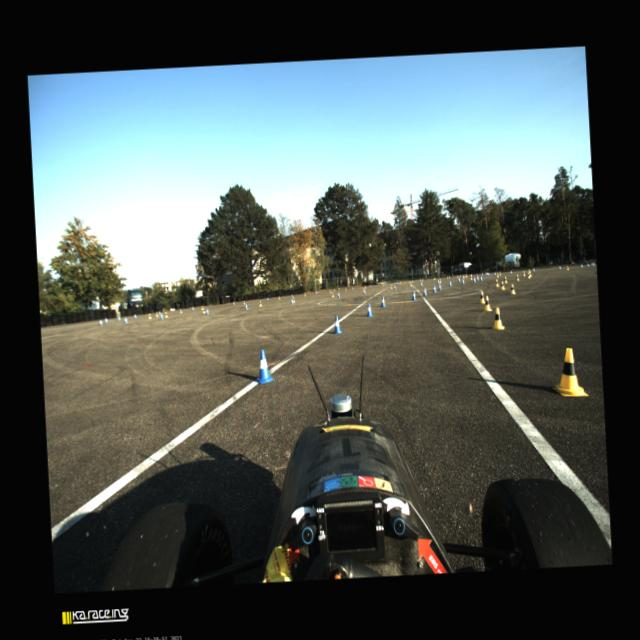blue_cone: (254, 349, 276, 385), (333, 315, 342, 334), (365, 303, 373, 317), (410, 290, 418, 300), (379, 296, 386, 307), (422, 288, 428, 296), (432, 285, 437, 293), (99, 318, 103, 326), (124, 316, 128, 324), (160, 313, 164, 320), (438, 284, 442, 290), (104, 317, 108, 323), (134, 313, 138, 319), (206, 308, 209, 316), (245, 303, 248, 311), (291, 298, 294, 305), (449, 281, 452, 287), (337, 292, 340, 298), (473, 277, 476, 283), (476, 275, 479, 281), (590, 262, 594, 266), (558, 266, 562, 270), (587, 263, 590, 268), (462, 278, 464, 285), (159, 310, 161, 316), (421, 282, 424, 286), (580, 264, 583, 268), (509, 270, 512, 274), (480, 276, 482, 282), (419, 278, 422, 282), (118, 316, 120, 321), (233, 301, 235, 306), (267, 296, 269, 301), (394, 285, 396, 290), (458, 277, 460, 282), (438, 279, 440, 284), (459, 274, 462, 277), (192, 306, 194, 310), (364, 290, 366, 294), (593, 262, 595, 266), (291, 294, 293, 298), (315, 291, 317, 295), (352, 286, 354, 290), (384, 282, 386, 286), (494, 272, 496, 276), (488, 272, 490, 276), (486, 272, 488, 276), (482, 272, 484, 276), (532, 268, 534, 272), (448, 276, 451, 278), (334, 288, 335, 292), (397, 282, 399, 284), (409, 280, 410, 284), (370, 285, 371, 288), (486, 272, 486, 276)
yellow_cone: (550, 346, 590, 399), (490, 306, 504, 331), (483, 294, 492, 312), (478, 291, 486, 304), (500, 281, 506, 291), (510, 284, 516, 294), (495, 279, 500, 288), (503, 276, 508, 284), (148, 312, 152, 320), (164, 310, 168, 318), (202, 307, 206, 314), (258, 300, 262, 306), (529, 270, 532, 278), (523, 270, 526, 277), (516, 274, 519, 281), (156, 311, 159, 317), (439, 278, 442, 284), (566, 265, 569, 271), (496, 272, 499, 278), (391, 284, 394, 289), (470, 275, 473, 280), (499, 271, 502, 276), (243, 300, 246, 305), (528, 272, 530, 279), (180, 308, 182, 314), (332, 292, 334, 298), (410, 282, 413, 286), (293, 296, 295, 302), (329, 290, 332, 294), (304, 292, 306, 297), (201, 306, 203, 310), (278, 296, 280, 300), (528, 268, 530, 272), (466, 274, 468, 278), (457, 274, 459, 278), (463, 274, 465, 278), (446, 276, 448, 280), (422, 278, 424, 282), (412, 280, 414, 284), (399, 281, 401, 285), (382, 282, 384, 286), (364, 285, 366, 289), (362, 288, 364, 292), (345, 288, 347, 292), (462, 274, 463, 278), (434, 278, 436, 280), (477, 274, 478, 276), (466, 274, 466, 278), (434, 278, 434, 280)
